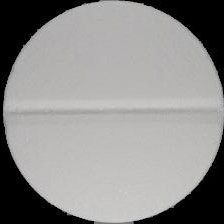54868-0120: (0, 0, 224, 224)
